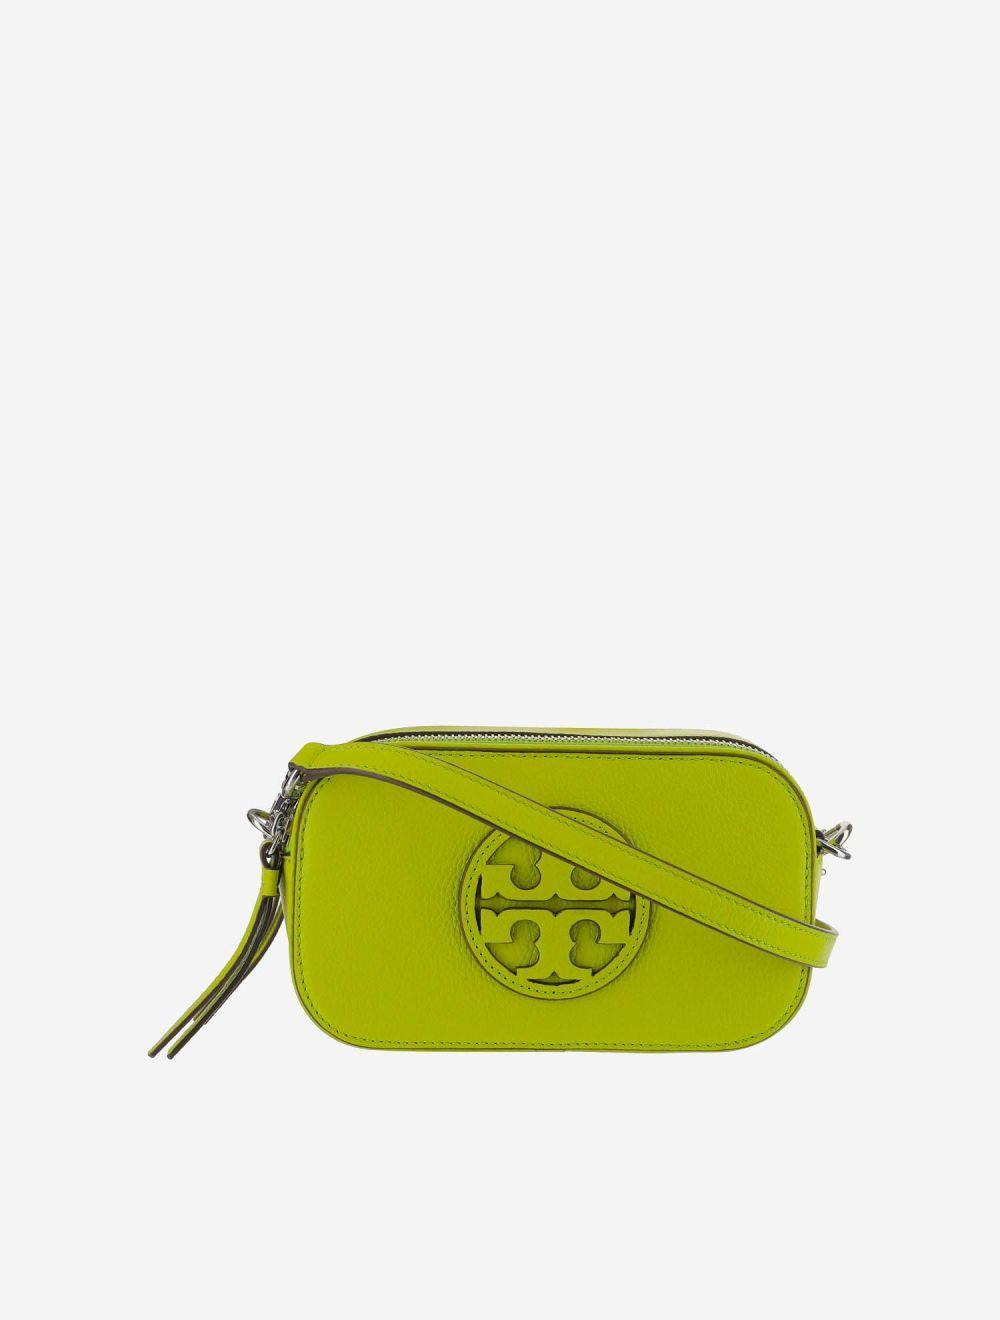TORY-BURCH: (459, 806, 651, 1001)
